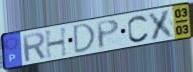C: (126, 14, 150, 44)
D: (73, 22, 97, 56)
H: (44, 25, 70, 60)
P: (95, 18, 121, 50)
R: (20, 31, 47, 64)
X: (147, 8, 177, 42)
